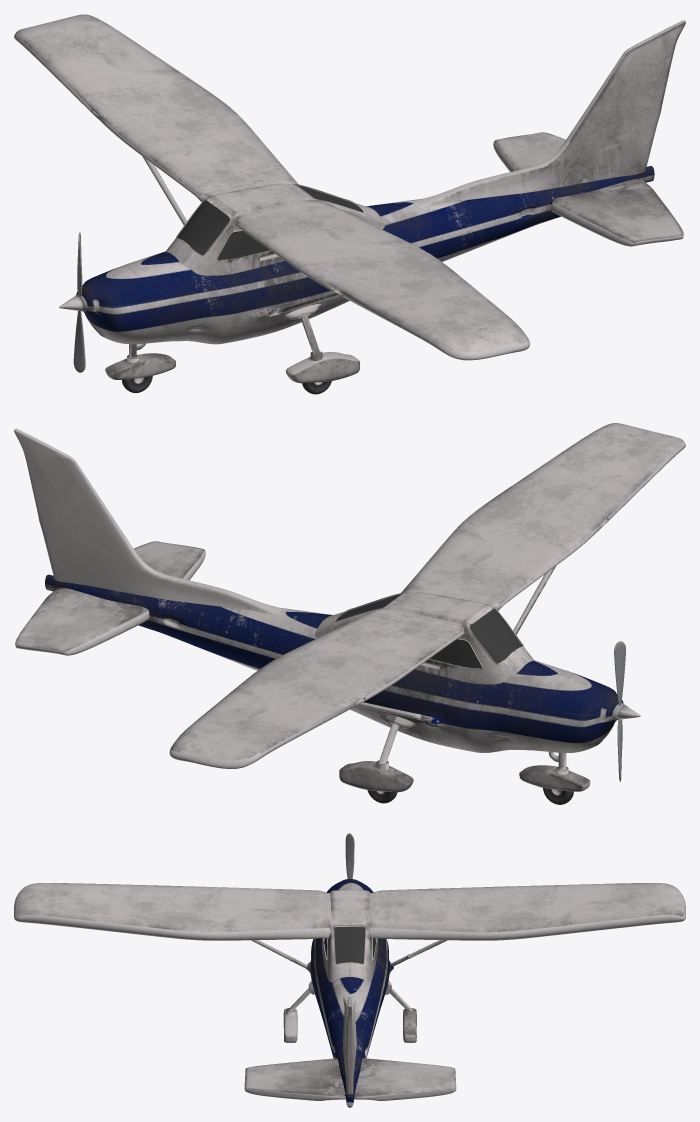
3 renders of one model, top to bottom at view 1: azimuth 30°, elevation 25°; view 2: azimuth 150°, elevation 25°; view 3: azimuth 270°, elevation 25°, orthographic. The views are drawn at different scales.
Parts seen in each view (by area): view 1: cockpit; view 2: cockpit; view 3: cockpit.
Part boxes in pixels (x1,y1,x2,y2): cockpit: (14,14,685,394); cockpit: (14,423,685,804); cockpit: (14,833,685,1107).
Bounding box in the file's own units: 14.04 × 5.23 × 17.49.
Materials: 1 (1 with a texture image).
